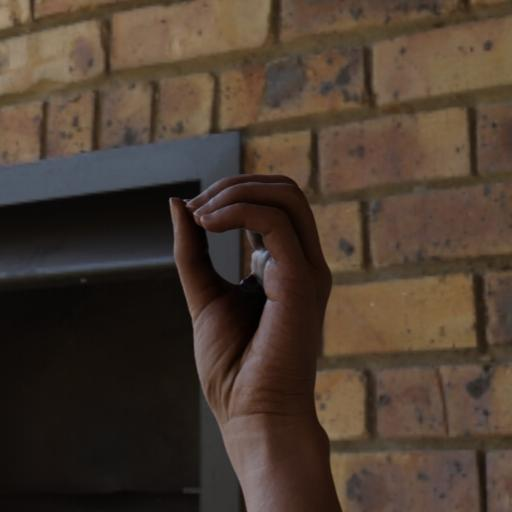O: (163, 168, 346, 428)
